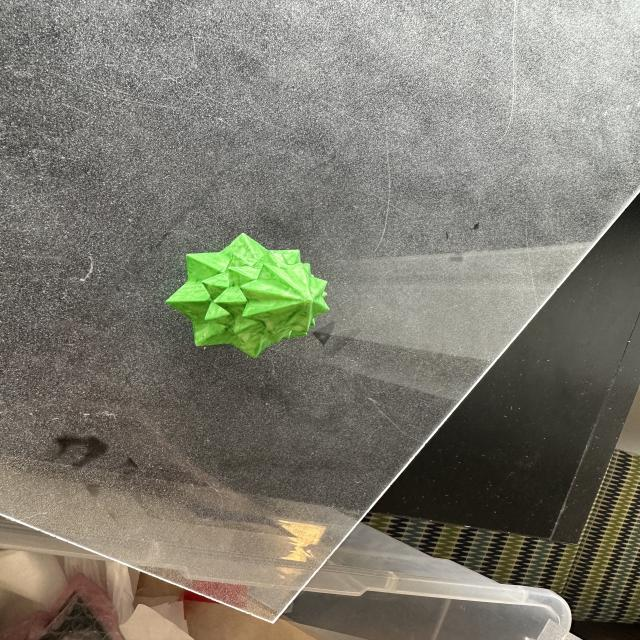tree: (164, 234, 334, 362)
